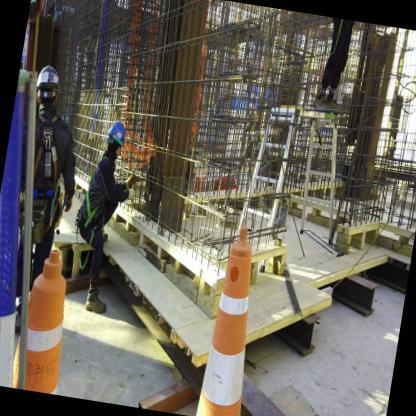Helmet: (104, 119, 130, 152)
safety-shoe: (80, 287, 111, 317)
